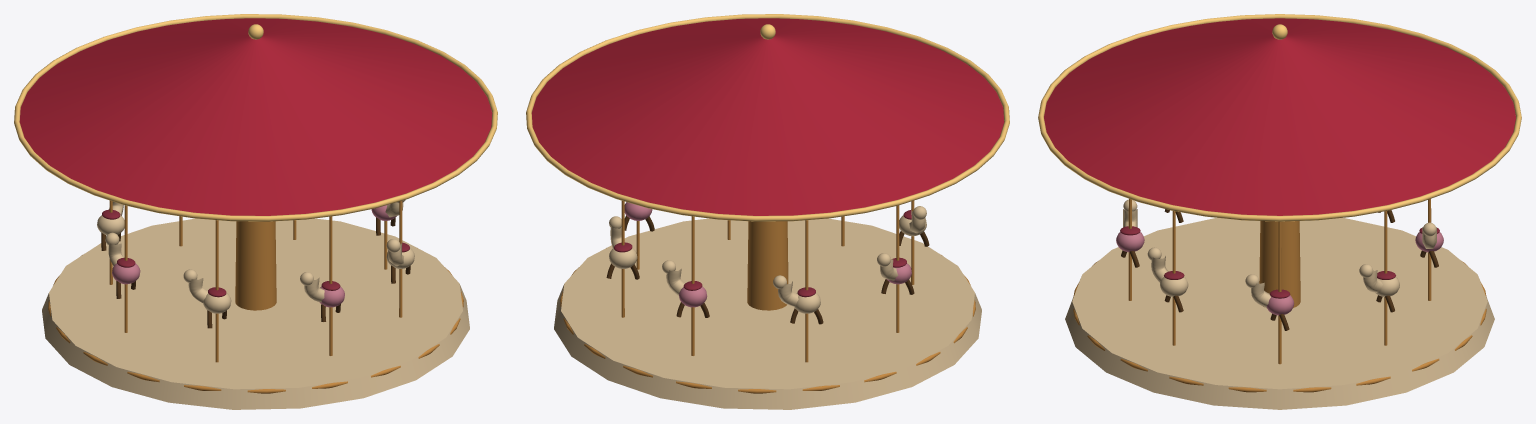
The model's file is mia-carousel_big.glb.
The picture shows the model from 3 angles, left to right: view 1: azimuth 30°, elevation 25°; view 2: azimuth 150°, elevation 25°; view 3: azimuth 270°, elevation 25°; orthographic projection.
Parts seen in each view (by area): view 1: Body_carousel-canopy, Body_ivory, Body_brass, Body_trim, Body_cake-rose, Body_wood, Body_velvet; view 2: Body_carousel-canopy, Body_ivory, Body_brass, Body_trim, Body_cake-rose, Body_wood, Body_velvet; view 3: Body_carousel-canopy, Body_ivory, Body_trim, Body_brass, Body_cake-rose, Body_wood, Body_velvet.
Boxes of the visible parts, bbox=[...] form: Body_carousel-canopy: bbox=[19, 18, 492, 215]; Body_ivory: bbox=[42, 199, 469, 409]; Body_brass: bbox=[48, 200, 463, 393]; Body_trim: bbox=[14, 14, 497, 221]; Body_cake-rose: bbox=[112, 204, 396, 307]; Body_wood: bbox=[101, 217, 410, 328]; Body_velvet: bbox=[102, 209, 409, 297]; Body_carousel-canopy: bbox=[531, 18, 1004, 215]; Body_ivory: bbox=[554, 206, 981, 409]; Body_brass: bbox=[560, 200, 975, 393]; Body_trim: bbox=[526, 14, 1009, 221]; Body_cake-rose: bbox=[624, 202, 911, 307]; Body_wood: bbox=[606, 215, 929, 324]; Body_velvet: bbox=[614, 210, 911, 297]; Body_carousel-canopy: bbox=[1044, 18, 1515, 215]; Body_ivory: bbox=[1065, 199, 1494, 409]; Body_trim: bbox=[1038, 14, 1521, 221]; Body_brass: bbox=[1073, 199, 1486, 392]; Body_cake-rose: bbox=[1116, 232, 1443, 315]; Body_wood: bbox=[1121, 209, 1438, 330]; Body_velvet: bbox=[1120, 226, 1439, 298].
Size of the model in its own units: 7.45 by 5 by 7.45.
